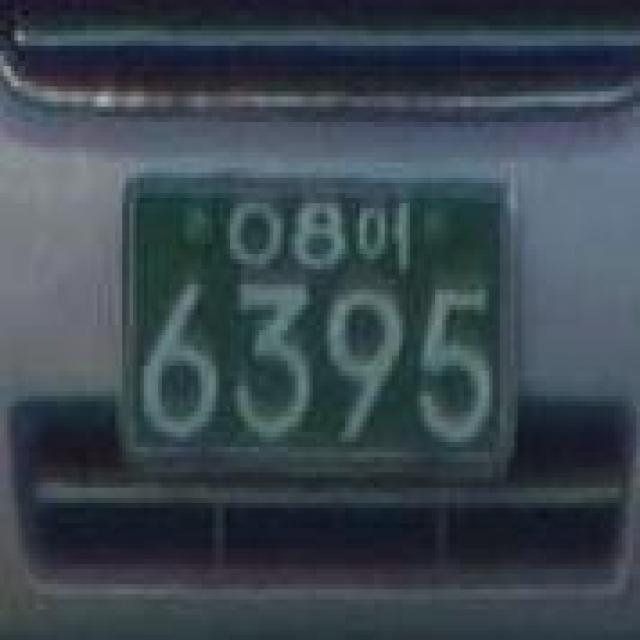illegal_plate: (108, 152, 533, 490)
